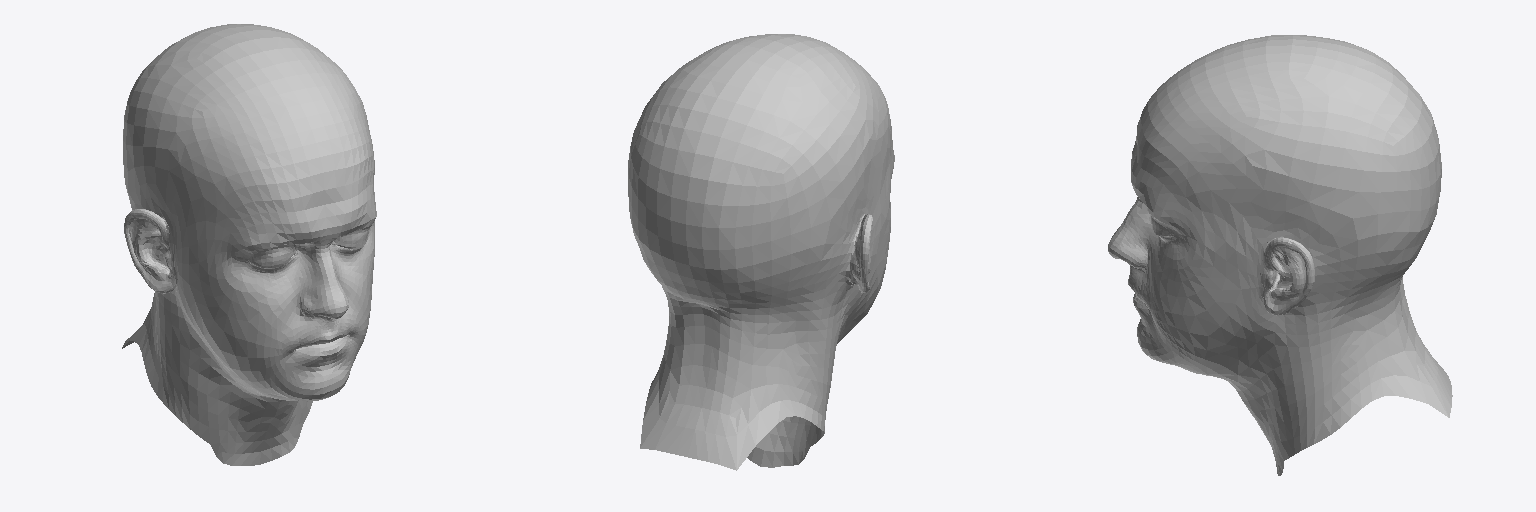
The model's file is Infinite-Level_02.OBJ.
The picture shows the model from 3 angles: view 1: azimuth 30°, elevation 25°; view 2: azimuth 150°, elevation 25°; view 3: azimuth 270°, elevation 25°; orthographic projection.
Parts seen in each view (by area): view 1: polySurface1; view 2: polySurface1; view 3: polySurface1.
Boxes of the visible parts, x1,y1,x2,y2 form: polySurface1: [122, 24, 376, 465]; polySurface1: [628, 34, 894, 470]; polySurface1: [1108, 35, 1452, 475].
Bounding box in the file's own units: 7.48 × 12.98 × 9.6.